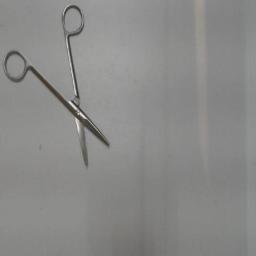Curved Mayo Scissors: (0, 2, 116, 174)
